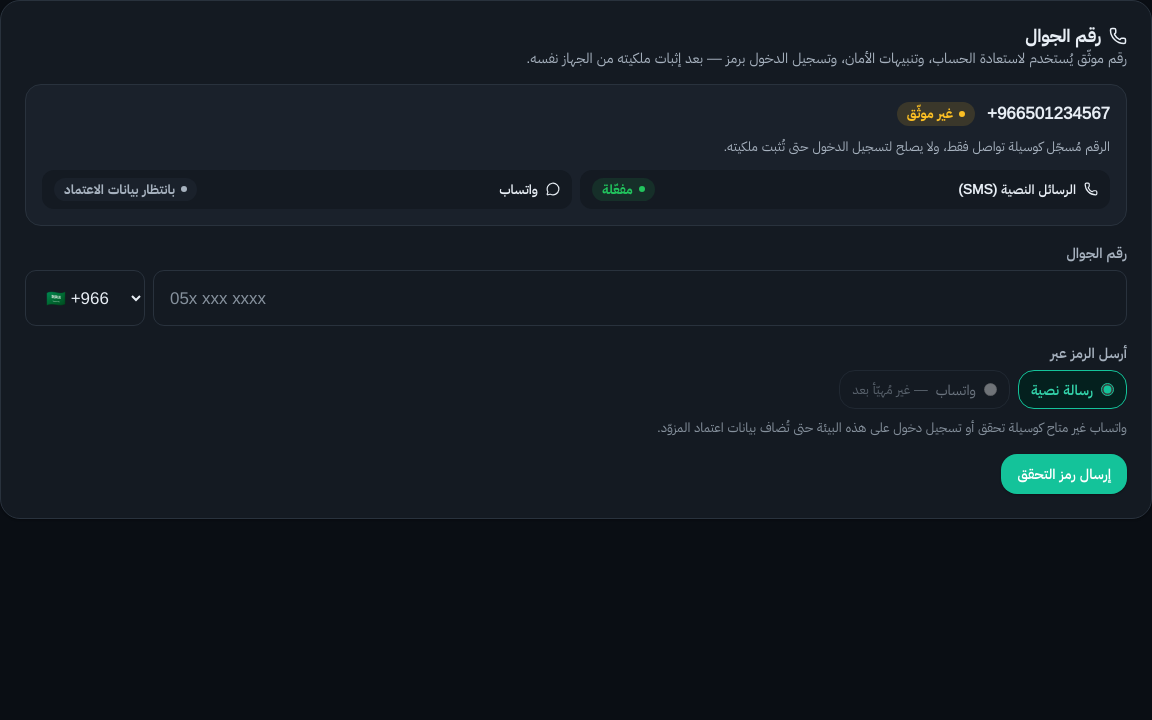
Test: AUTH-PHONE-001 — the mobile number in Account security › does not claim a code was sent when no provider is wired
The width and height of the screenshot is (1152, 720).
expect the element with test id "phone-state" is shown: met, box [897,102,975,126]
In the field with test id "phone-credential-number": (640, 298) [153,270,1127,326], type "0501234567"
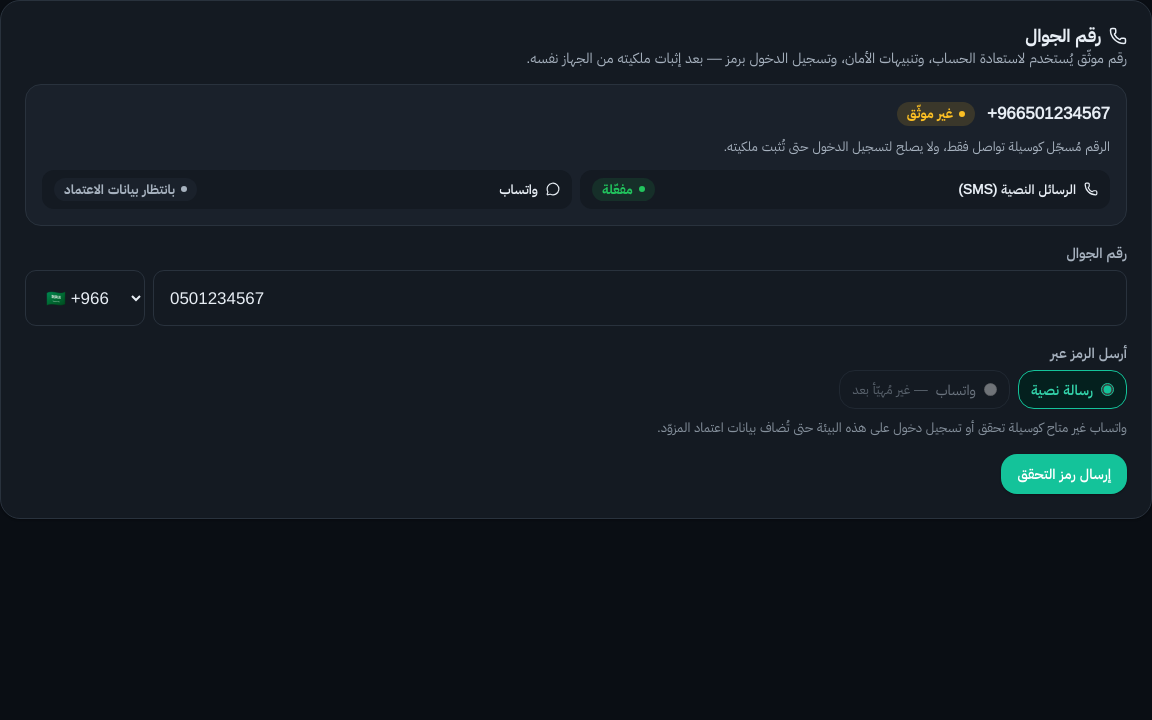
Click the button with test id "phone-send-code": click(1064, 474) [1002,454,1127,494]
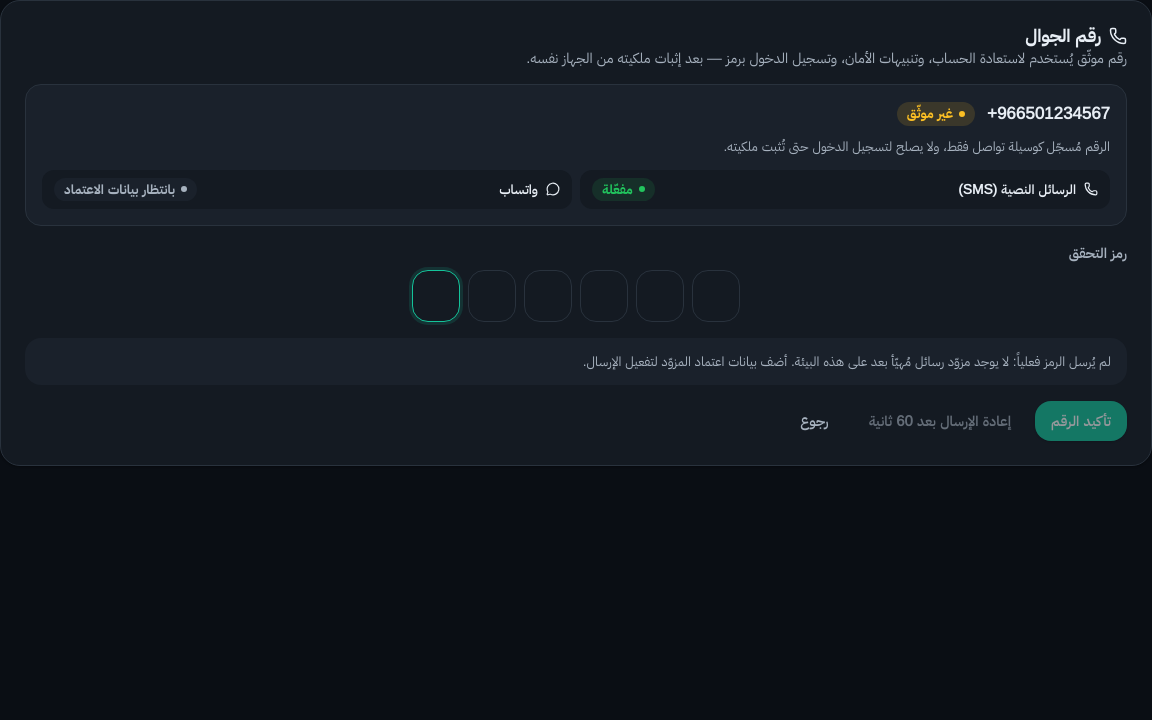
expect the message with test id "phone-code-undelivered" is shown: met, box [25,338,1127,385]
